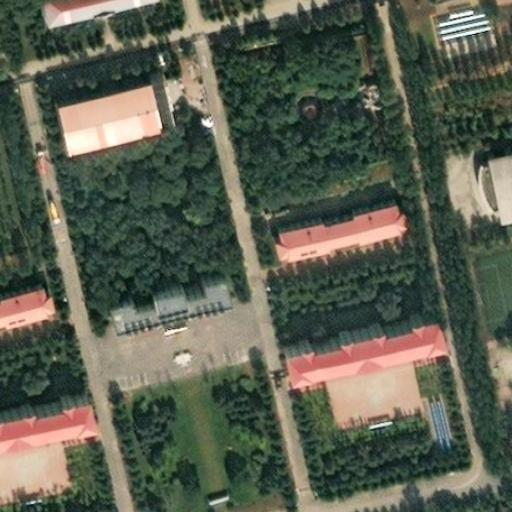building: (270, 297, 431, 361), (263, 185, 396, 244), (48, 53, 154, 123), (94, 259, 214, 312), (0, 377, 85, 426), (483, 153, 512, 224), (426, 391, 456, 451), (152, 294, 178, 316)
